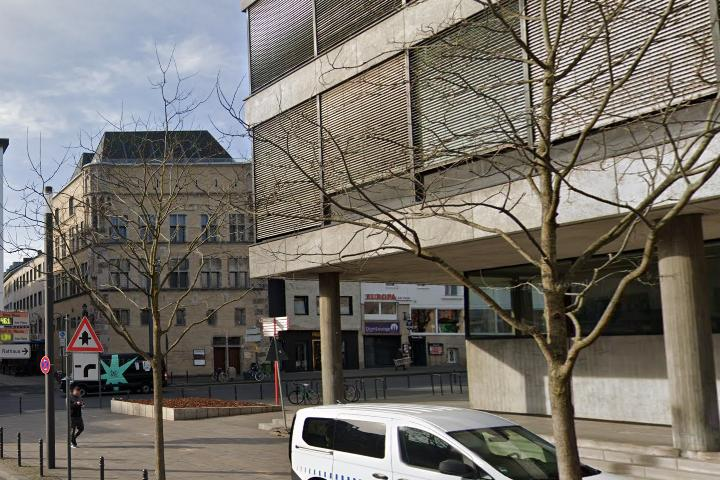traffic_sign: (65, 316, 104, 353), (71, 351, 100, 382), (39, 354, 51, 374)
vehicle: (287, 400, 647, 480)
